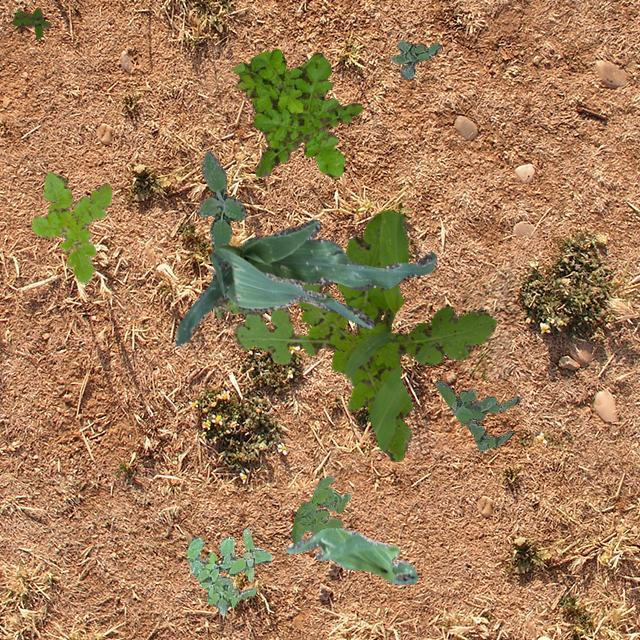crop: (174, 218, 436, 346), (284, 526, 416, 584)
weed: (232, 208, 496, 461), (230, 48, 362, 176), (30, 170, 110, 282), (186, 526, 270, 614), (434, 379, 520, 452), (198, 150, 245, 248), (290, 476, 350, 542), (390, 40, 440, 78), (12, 7, 50, 38), (214, 296, 248, 318)
